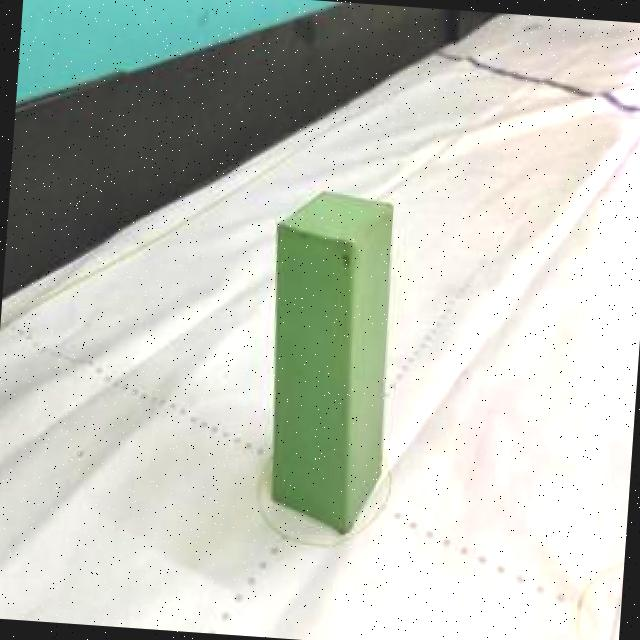greenbox: (252, 183, 398, 541)
